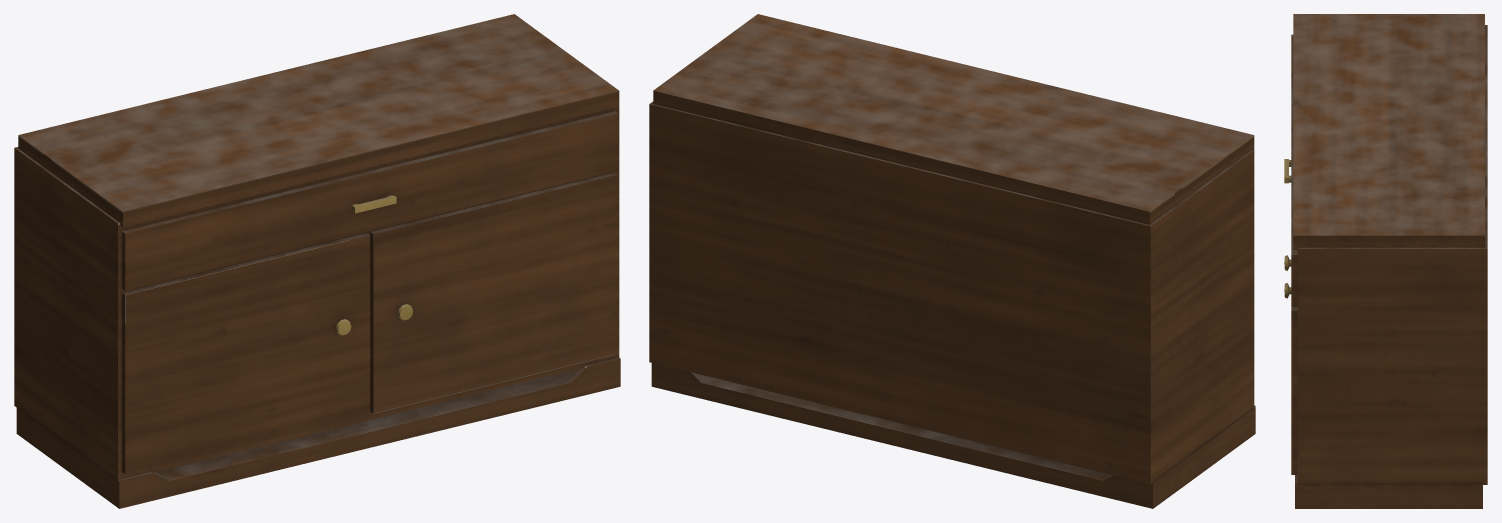
The model's file is H_Dresser_Phone.fbx.
3 views of the same model, side by side, from view 1: azimuth 30°, elevation 25°; view 2: azimuth 150°, elevation 25°; view 3: azimuth 270°, elevation 25° (orthographic). The views are drawn at different scales.
Visible parts, largest first — view 1: H_Dresser_Phone; view 2: H_Dresser_Phone; view 3: H_Dresser_Phone.
Part boxes in pixels (x1,y1,x2,y2): H_Dresser_Phone: (14,14,620,508); H_Dresser_Phone: (649,14,1255,508); H_Dresser_Phone: (1284,14,1487,508).
Size of the model in its own units: 600 by 340 by 230.
1 material, 1 textured.
